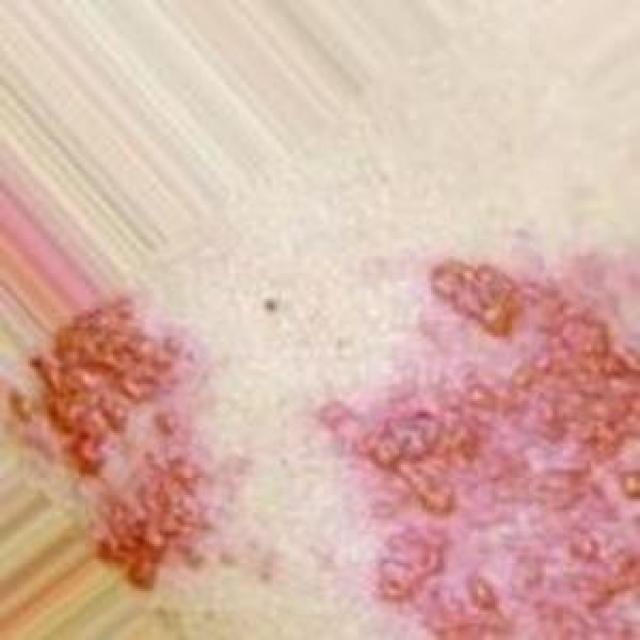Shingles: (322, 254, 640, 640), (9, 294, 203, 590)
